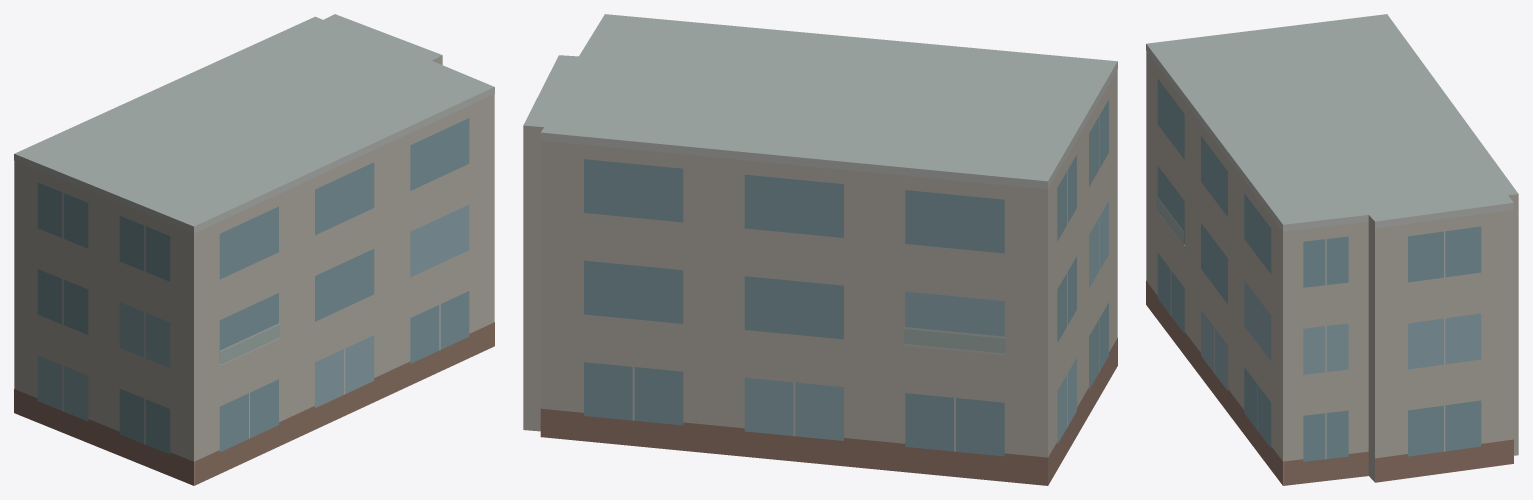
File: survey-upis-32608477.glb
3 views of the same model, side by side, from view 1: azimuth 30°, elevation 25°; view 2: azimuth 150°, elevation 25°; view 3: azimuth 270°, elevation 25° (orthographic). The views are drawn at different scales.
Visible parts, largest first — view 1: survey-upis-32608477.tmp; view 2: survey-upis-32608477.tmp; view 3: survey-upis-32608477.tmp.
Boxes of the visible parts, bbox=[...] form: survey-upis-32608477.tmp: bbox=[14, 14, 494, 485]; survey-upis-32608477.tmp: bbox=[523, 14, 1117, 485]; survey-upis-32608477.tmp: bbox=[1146, 14, 1518, 485].
Size of the model in its own units: 15.85 by 9.15 by 11.84.
